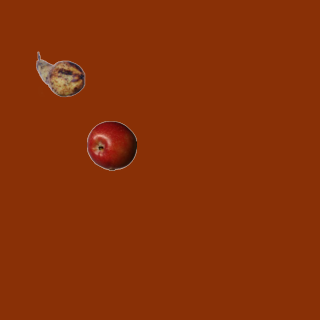Apple Braeburn: (86, 120, 136, 170)
Pear Abate: (35, 49, 85, 99)
